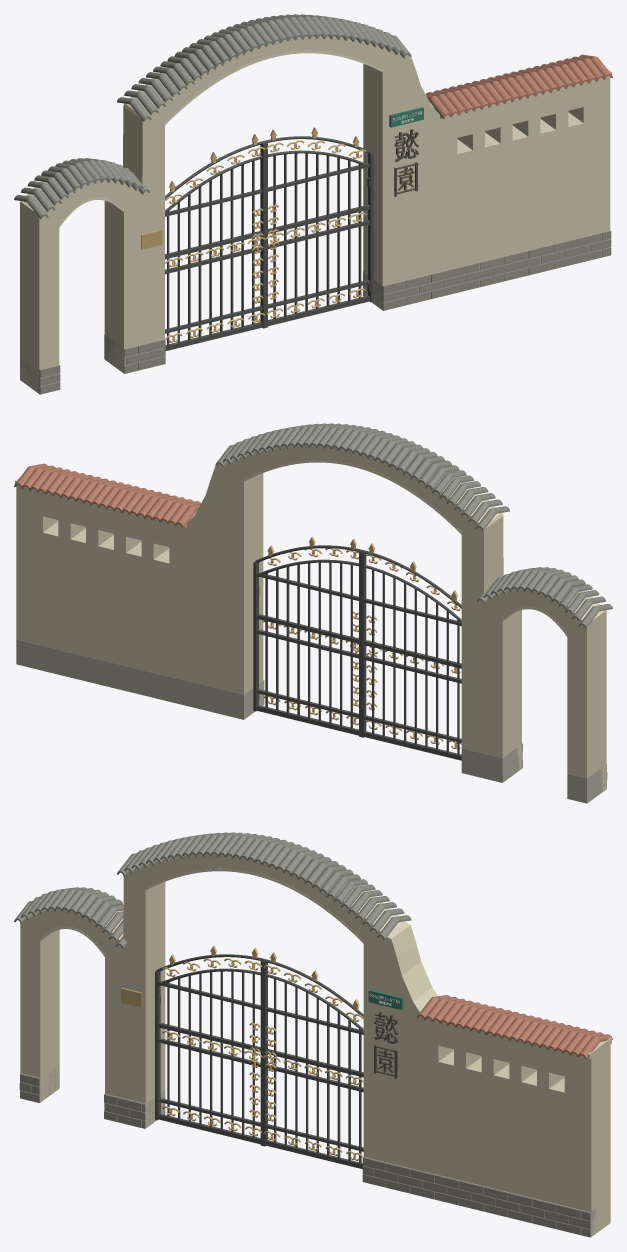
The model's file is xuhui-yiyuan-jianguo-road-gate-raw.glb.
3 renders of one model, top to bottom at view 1: azimuth 30°, elevation 25°; view 2: azimuth 150°, elevation 25°; view 3: azimuth 330°, elevation 25°, orthographic.
Visible parts, largest first — view 1: 懿园建国西路南门; view 2: 懿园建国西路南门; view 3: 懿园建国西路南门.
Boxes of the visible parts, box(x1,y1,x2,y2) form: 懿园建国西路南门: box(14, 14, 612, 394); 懿园建国西路南门: box(14, 423, 612, 803); 懿园建国西路南门: box(14, 832, 612, 1237).
Bounding box in the file's own units: 8.69 × 4.46 × 0.7.
